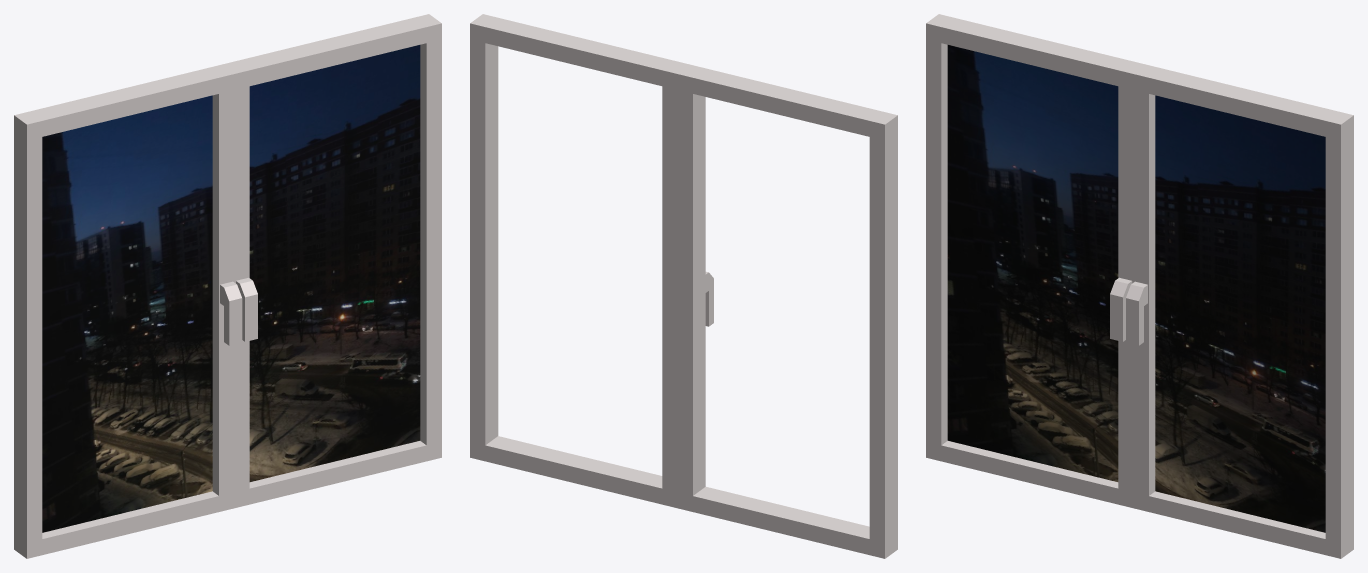
Rendered from окно1.fbx.
3 views of the same model, side by side, from view 1: azimuth 30°, elevation 25°; view 2: azimuth 150°, elevation 25°; view 3: azimuth 330°, elevation 25° (orthographic).
Parts seen in each view (by area): view 1: Cube; view 2: Cube; view 3: Cube.
Part boxes in pixels (x1=…): Cube: x1=14, y1=14, x2=441, y2=558; Cube: x1=470, y1=14, x2=897, y2=558; Cube: x1=926, y1=14, x2=1353, y2=558.
Bounding box in the file's own units: 54.7 × 54.7 × 5.03.
Materials: 2 (1 with a texture image).
